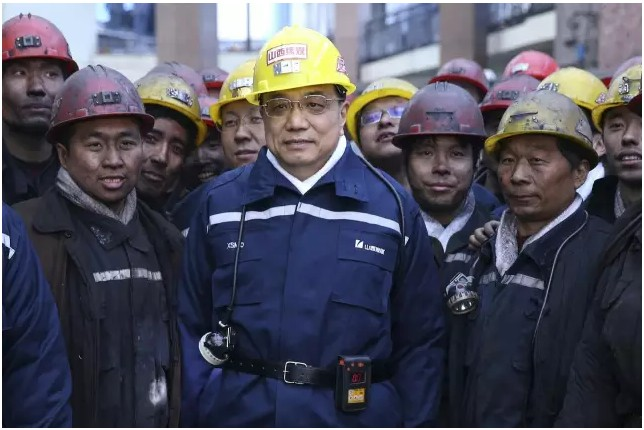helmet: (250, 25, 354, 167), (55, 61, 141, 197), (402, 83, 486, 201)
